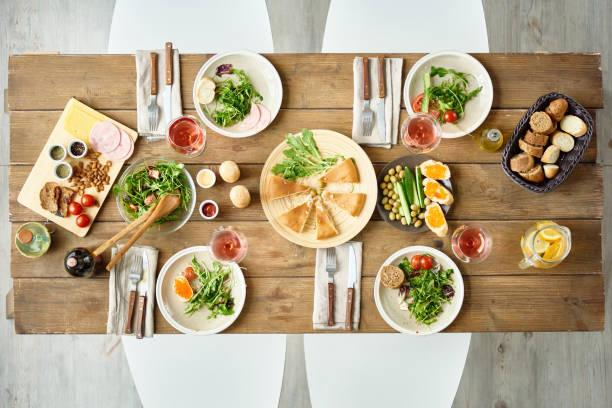Braised Crucian Carp: (16, 97, 136, 236), (258, 129, 376, 248), (502, 91, 595, 191), (373, 245, 463, 334), (155, 245, 245, 333), (404, 52, 493, 139), (193, 51, 281, 138), (376, 154, 451, 232)
